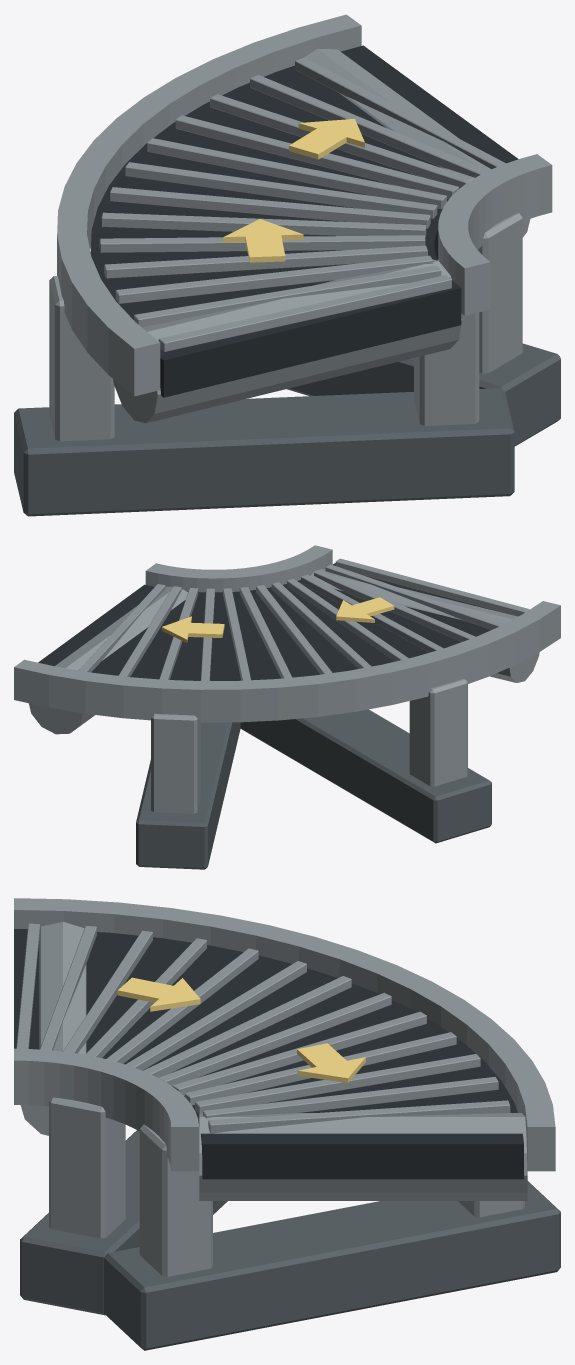
The model's file is belt-turn-right-mk1.glb.
3 views of the same model, one above another, from view 1: azimuth 30°, elevation 25°; view 2: azimuth 150°, elevation 25°; view 3: azimuth 270°, elevation 25° (orthographic). The views are drawn at different scales.
Parts seen in each view (by area): view 1: belt-turn-right / Machined steel, belt-turn-right / Graphite enamel, belt-turn-right / Recesses and belt, belt-turn-right / Gold outlet markings; view 2: belt-turn-right / Machined steel, belt-turn-right / Graphite enamel, belt-turn-right / Recesses and belt, belt-turn-right / Gold outlet markings; view 3: belt-turn-right / Machined steel, belt-turn-right / Graphite enamel, belt-turn-right / Recesses and belt, belt-turn-right / Gold outlet markings.
Part boxes in pixels (x1,y1,x2,y2): belt-turn-right / Machined steel: [49, 14, 552, 441]; belt-turn-right / Graphite enamel: [14, 343, 560, 516]; belt-turn-right / Recesses and belt: [90, 45, 518, 397]; belt-turn-right / Gold outlet markings: [223, 118, 364, 262]; belt-turn-right / Machined steel: [14, 545, 560, 813]; belt-turn-right / Graphite enamel: [136, 709, 491, 869]; belt-turn-right / Recesses and belt: [38, 563, 511, 680]; belt-turn-right / Gold outlet markings: [161, 597, 394, 642]; belt-turn-right / Machined steel: [14, 898, 555, 1276]; belt-turn-right / Graphite enamel: [20, 1130, 560, 1350]; belt-turn-right / Recesses and belt: [14, 929, 523, 1179]; belt-turn-right / Gold outlet markings: [117, 977, 365, 1083].
Size of the model in its own units: 0.7828 by 0.363 by 0.7828.
